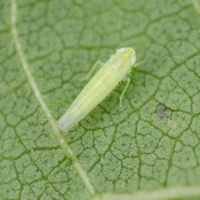insect: (58, 48, 135, 131)
